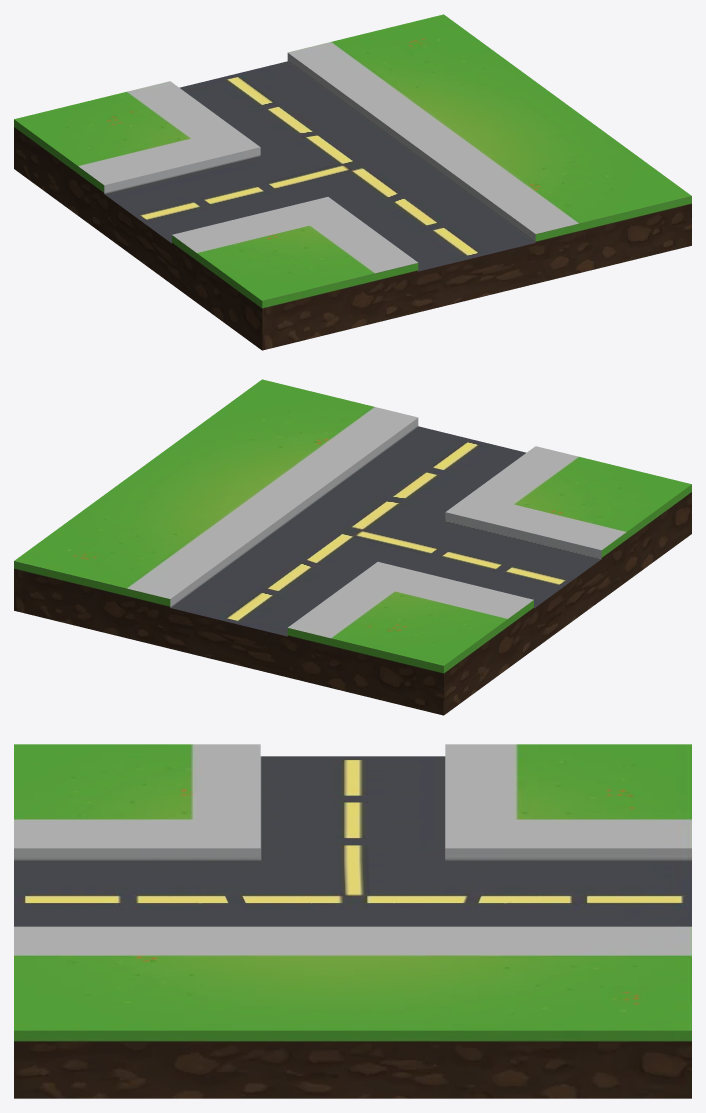
File: city_road_04.glb
The picture shows the model from 3 angles, top to bottom: view 1: azimuth 30°, elevation 25°; view 2: azimuth 150°, elevation 25°; view 3: azimuth 270°, elevation 25°; orthographic projection. The views are drawn at different scales.
Visible parts, largest first — view 1: road_04; view 2: road_04; view 3: road_04.
Part boxes in pixels (x1,y1,x2,y2): road_04: [14, 14, 691, 350]; road_04: [14, 379, 691, 715]; road_04: [14, 744, 691, 1098].
Bounding box in the file's own units: 22 × 2.43 × 22.
1 material, 1 textured.
